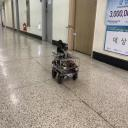cart: (51, 52, 80, 84)
